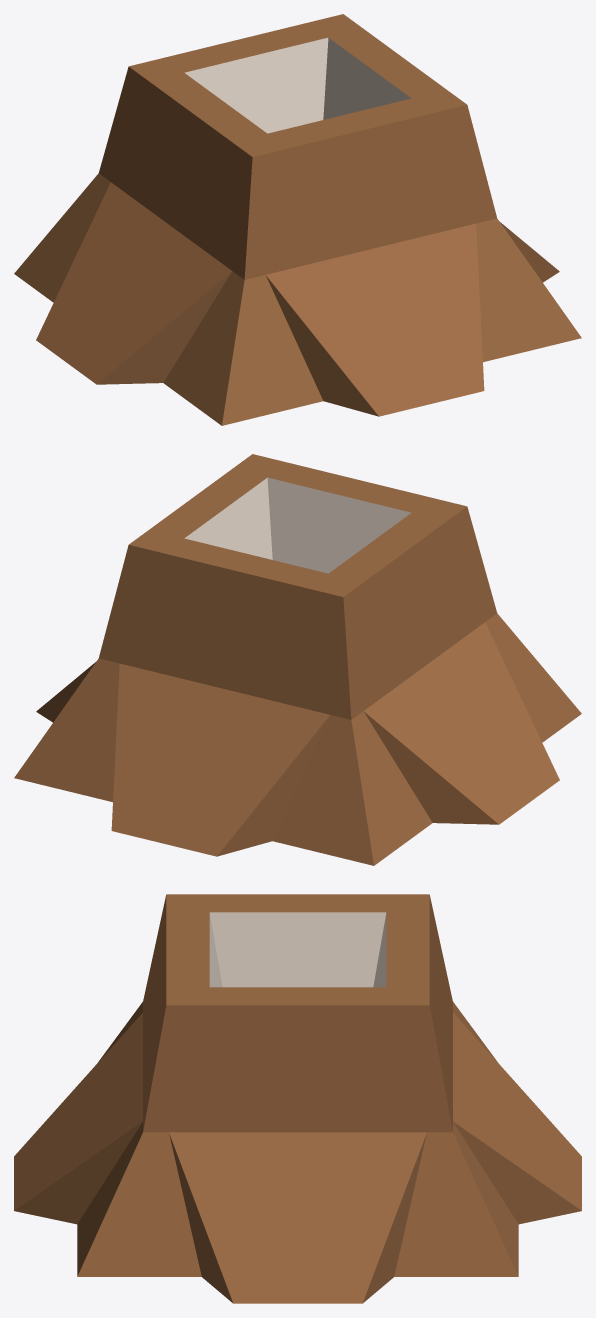
The model's file is stump_squareDetailed.glb.
3 views of the same model, one above another, from view 1: azimuth 30°, elevation 25°; view 2: azimuth 150°, elevation 25°; view 3: azimuth 270°, elevation 25° (orthographic). The views are drawn at different scales.
Parts seen in each view (by area): view 1: stump_squareDetailed; view 2: stump_squareDetailed; view 3: stump_squareDetailed.
Boxes of the visible parts, x1=… form: stump_squareDetailed: x1=14, y1=14, x2=581, y2=425; stump_squareDetailed: x1=14, y1=454, x2=581, y2=865; stump_squareDetailed: x1=14, y1=894, x2=581, y2=1303.
Bounding box in the file's own units: 0.44 × 0.2 × 0.44.
